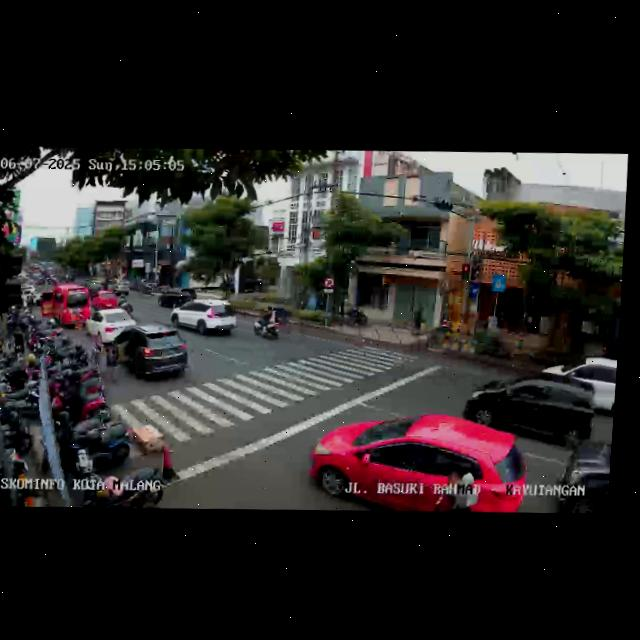car: (306, 409, 531, 516), (460, 367, 597, 450), (531, 348, 618, 418), (547, 431, 612, 514), (105, 324, 193, 385), (168, 296, 239, 340), (36, 282, 91, 331), (81, 308, 136, 347), (158, 286, 198, 310), (89, 288, 118, 310)
motorcycle: (252, 303, 284, 339), (118, 296, 137, 321)
